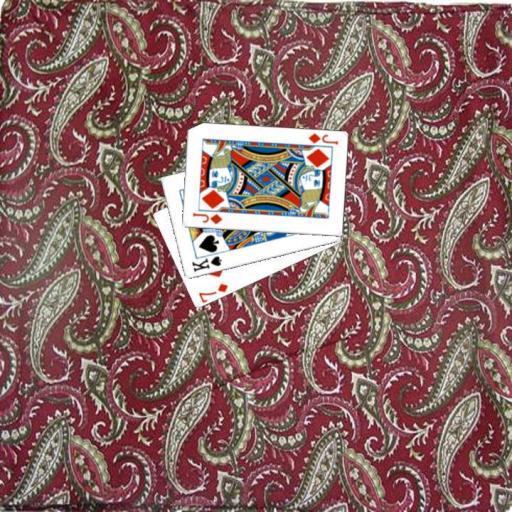7D: (196, 280, 230, 304)
JD: (189, 210, 224, 226), (305, 130, 339, 146)
KS: (189, 253, 224, 274)
